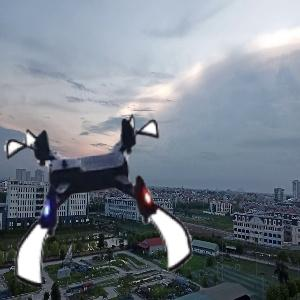drone: (8, 113, 191, 296)
